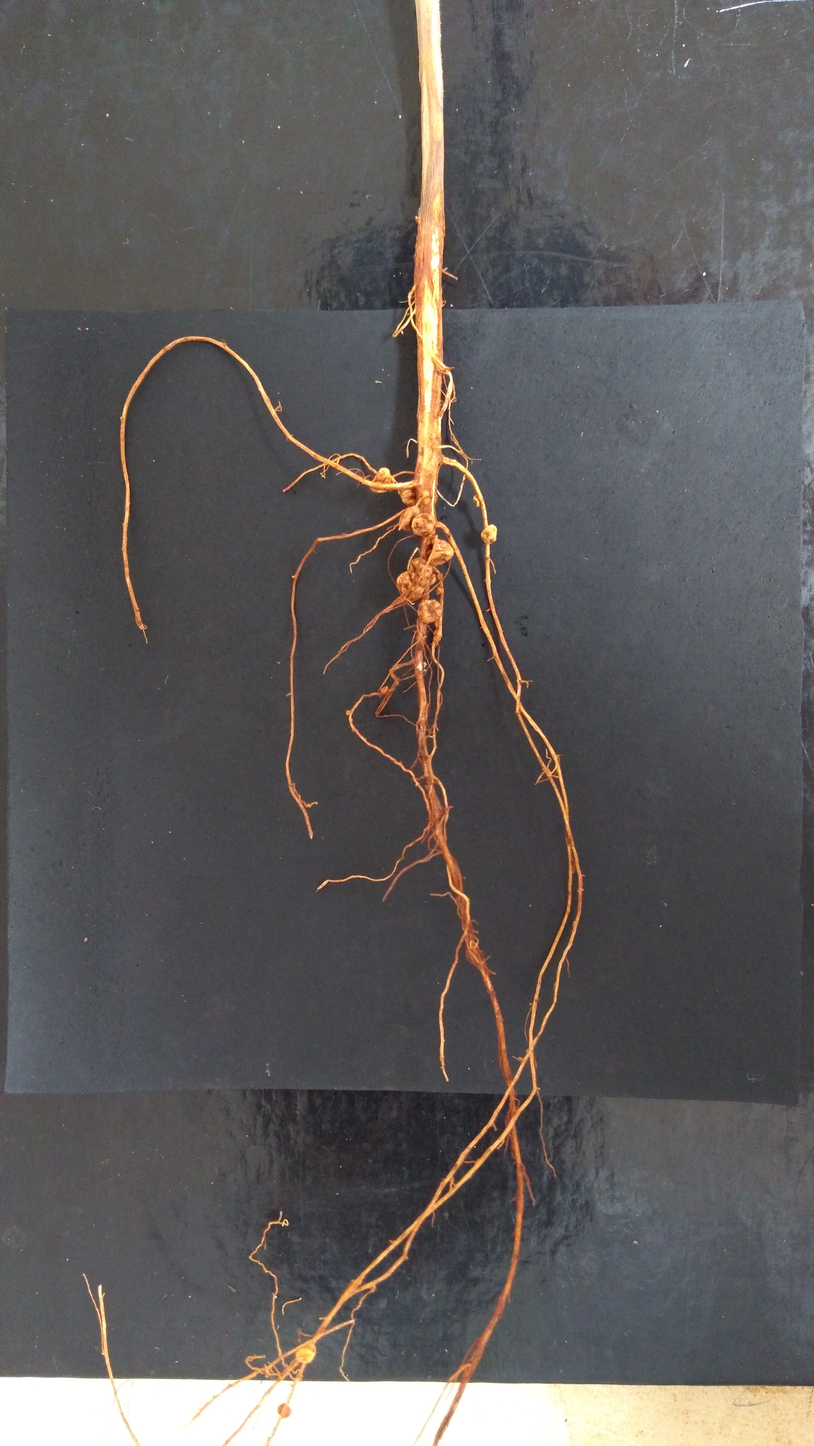nodule: (408, 557, 437, 586), (396, 571, 423, 602), (431, 539, 454, 567), (417, 599, 443, 623), (370, 468, 394, 493), (412, 513, 436, 536), (398, 506, 419, 530), (398, 483, 416, 508), (296, 1342, 316, 1363), (480, 524, 497, 544), (278, 1403, 292, 1418), (425, 530, 438, 546), (422, 490, 431, 504), (473, 495, 482, 508), (380, 686, 388, 695), (435, 586, 442, 595), (437, 573, 443, 580), (433, 636, 440, 642), (415, 215, 420, 223), (433, 629, 439, 635), (346, 710, 351, 715), (435, 621, 439, 627), (423, 661, 426, 668)
